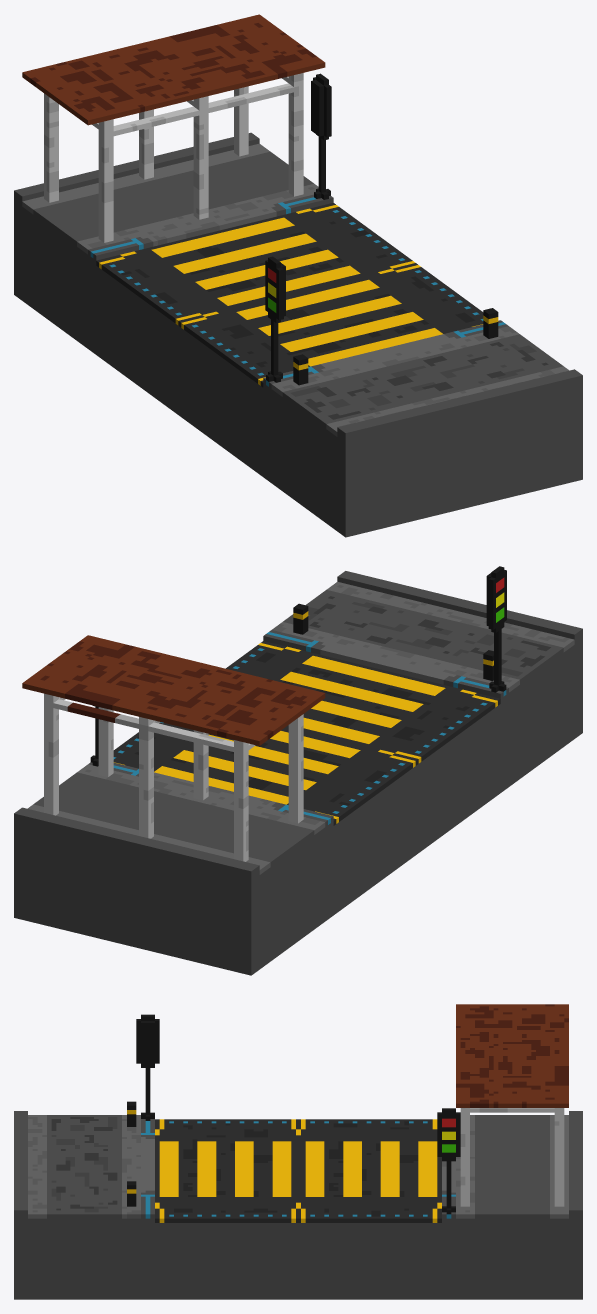
The model's file is Road4.obj.
3 views of the same model, one above another, from view 1: azimuth 30°, elevation 25°; view 2: azimuth 150°, elevation 25°; view 3: azimuth 270°, elevation 25° (orthographic). The views are drawn at different scales.
Size of the model in its own units: 50 by 46 by 121.
1 material, 1 textured.
